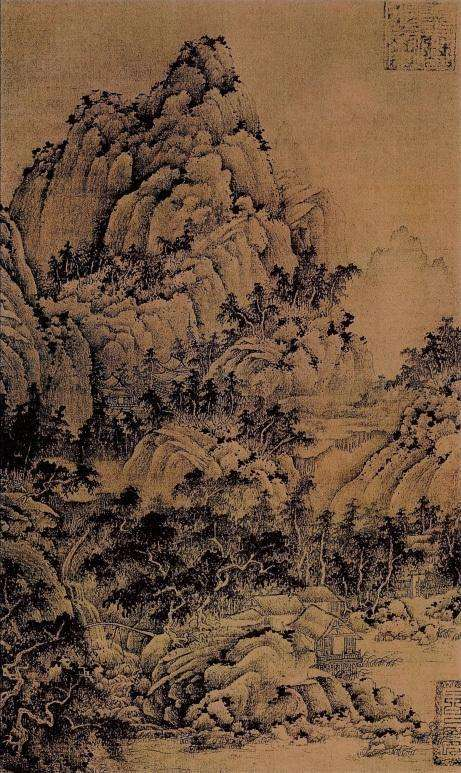house: (290, 609, 368, 683)
mountain: (1, 25, 371, 394), (134, 634, 322, 753), (127, 420, 302, 500)
pine: (91, 494, 461, 604), (1, 553, 136, 768), (105, 376, 305, 455), (212, 244, 369, 336), (1, 392, 127, 492), (47, 235, 176, 287)
